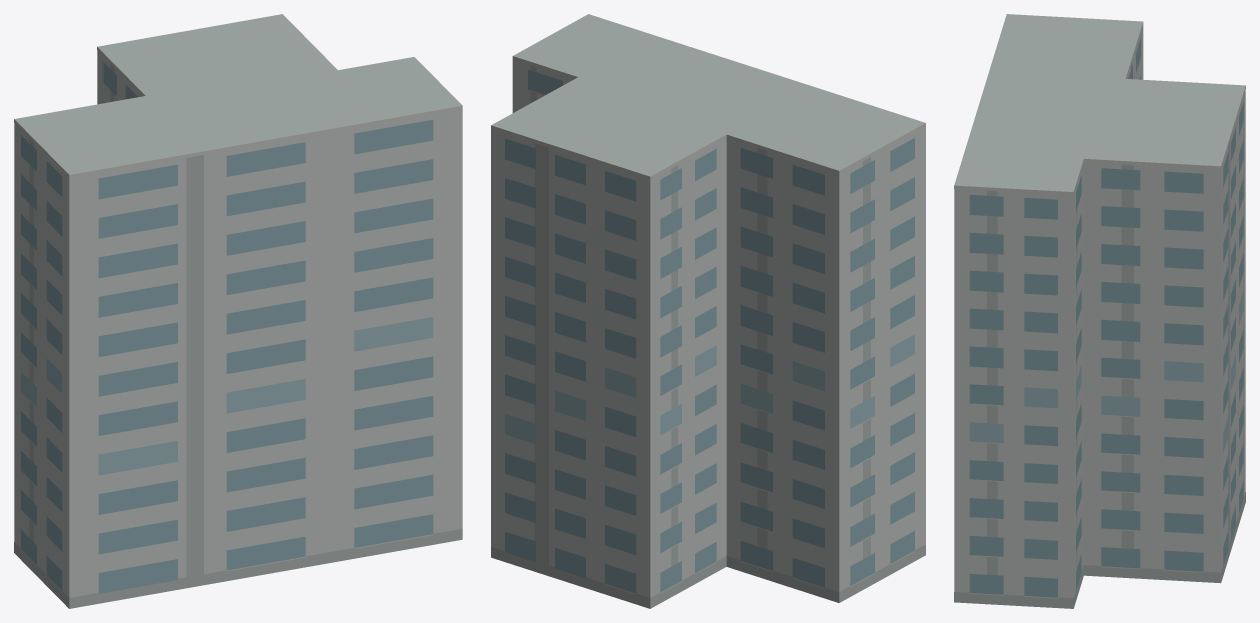
The model's file is residential-c5e69c7e-74ed-4da6-b495-08230fdfb65f.glb.
3 views of the same model, side by side, from view 1: azimuth 30°, elevation 25°; view 2: azimuth 150°, elevation 25°; view 3: azimuth 270°, elevation 25° (orthographic). The views are drawn at different scales.
Parts seen in each view (by area): view 1: residential-c5e69c7e-74ed-4da6-b495-08230fdfb65f.tmp; view 2: residential-c5e69c7e-74ed-4da6-b495-08230fdfb65f.tmp; view 3: residential-c5e69c7e-74ed-4da6-b495-08230fdfb65f.tmp.
Boxes of the visible parts, box(x1,y1,x2,y2) form: residential-c5e69c7e-74ed-4da6-b495-08230fdfb65f.tmp: box(14, 14, 462, 608); residential-c5e69c7e-74ed-4da6-b495-08230fdfb65f.tmp: box(491, 14, 925, 608); residential-c5e69c7e-74ed-4da6-b495-08230fdfb65f.tmp: box(954, 14, 1245, 608).
Bounding box in the file's own units: 27.5 × 30 × 19.04.
